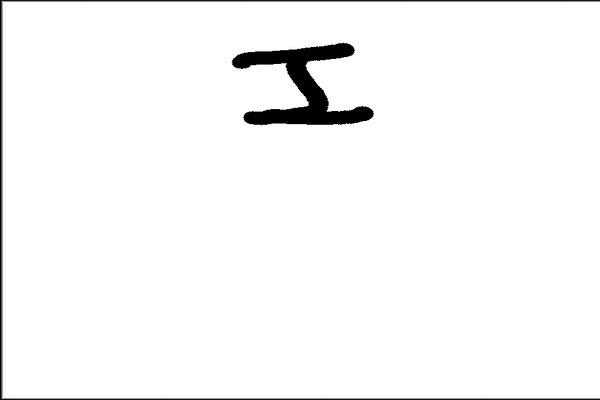i: (223, 36, 382, 130)
